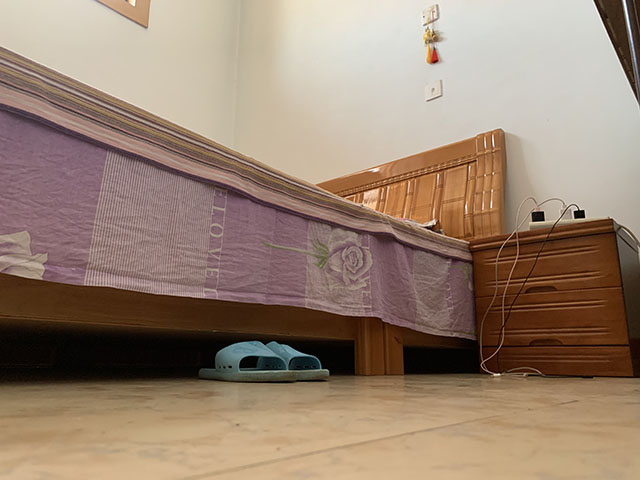bed: (1, 46, 507, 377)
cabinet: (469, 216, 639, 379)
slippers: (197, 341, 293, 383)
wire: (476, 195, 588, 380)
